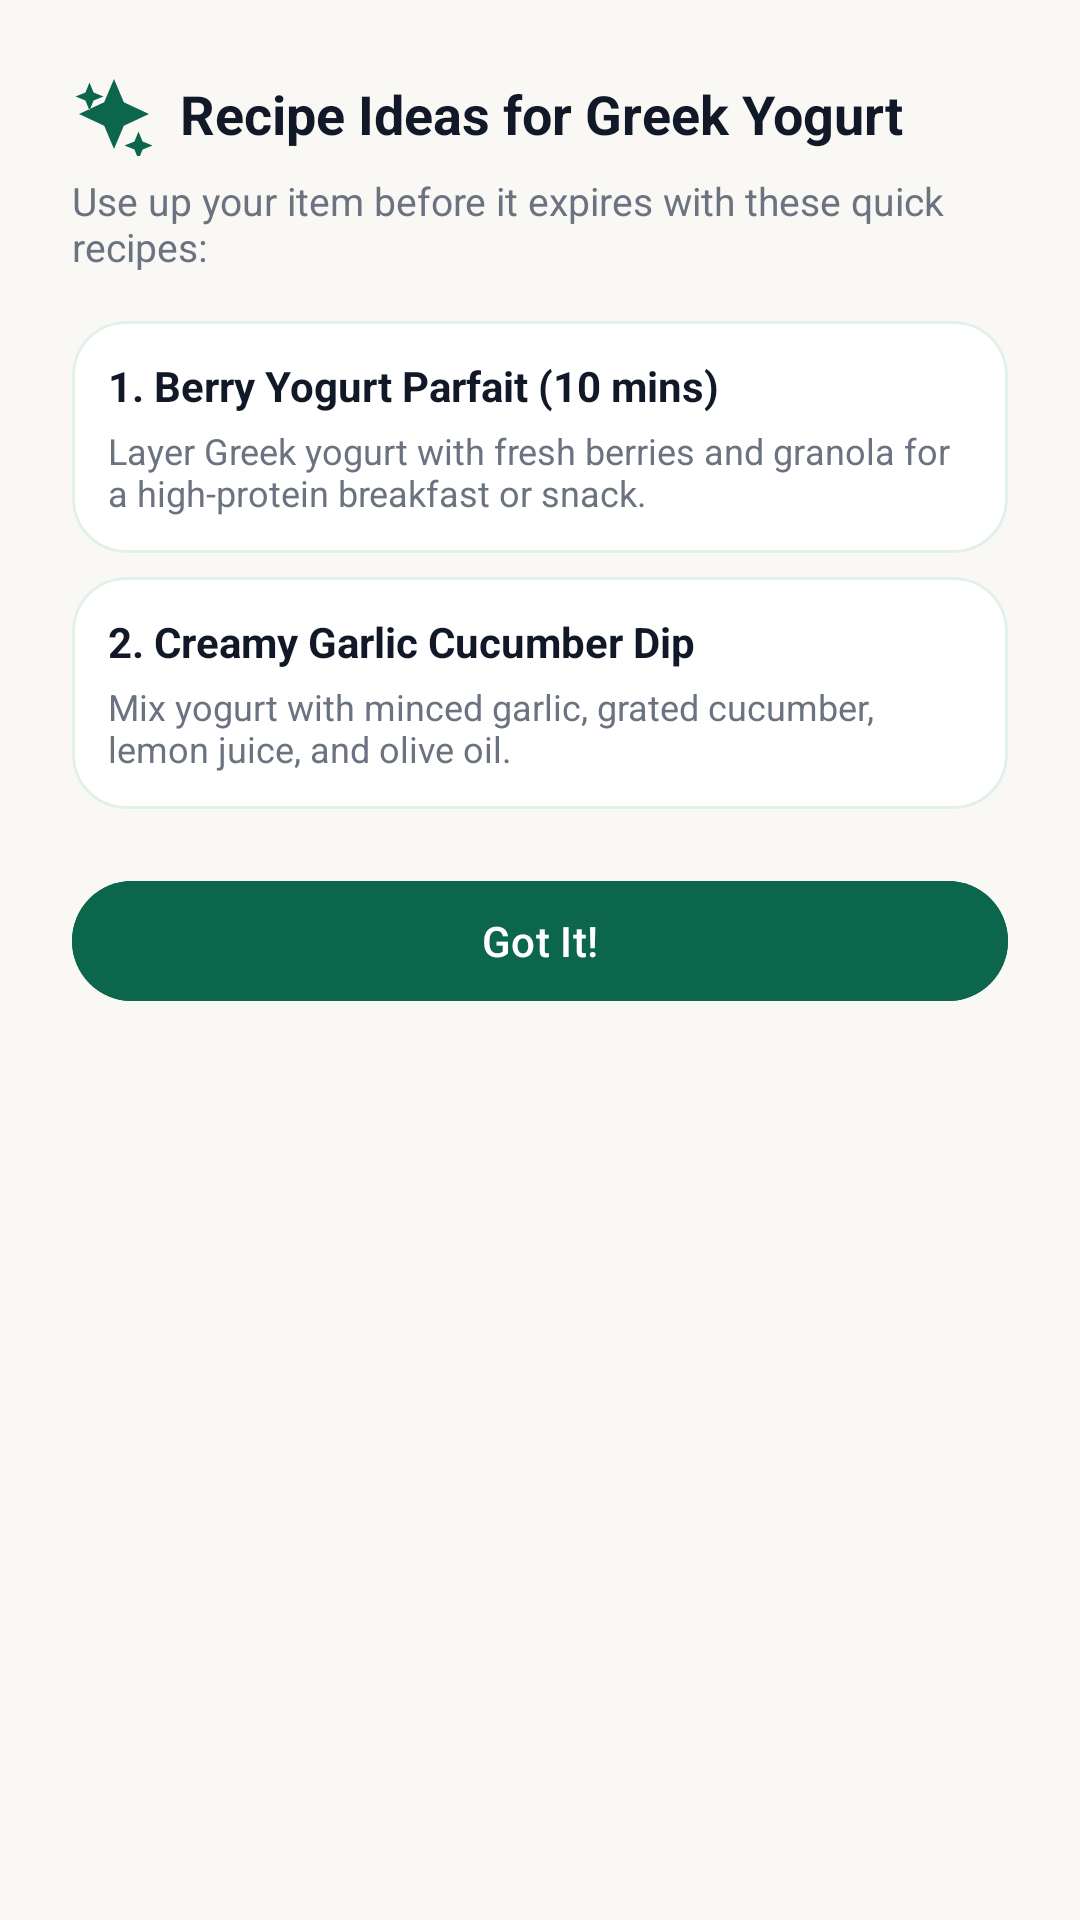

Icons on this 1080px×1920px Android screen, each with the point to tap as (x=x, y=y):
sparkles: (x=114, y=117)
